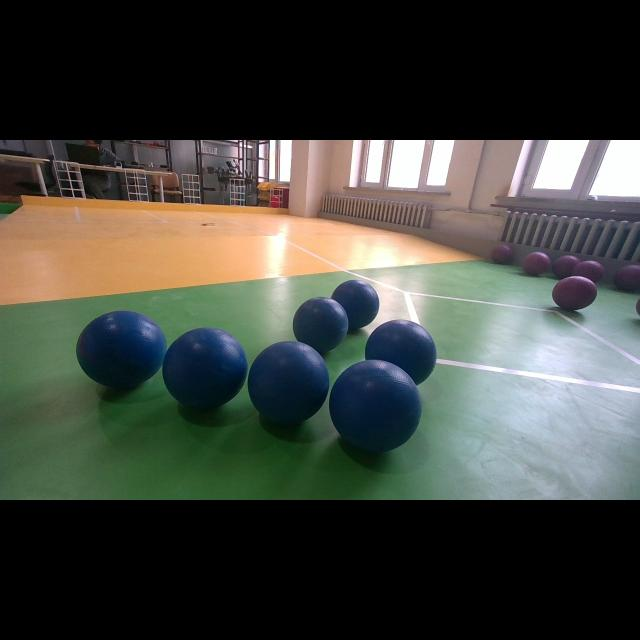B: (330, 360, 422, 454), (76, 310, 166, 390), (162, 328, 248, 410), (247, 341, 329, 425), (372, 314, 448, 378), (324, 272, 386, 338), (293, 296, 349, 354)
P: (552, 276, 598, 310), (576, 260, 602, 288), (551, 252, 577, 278), (523, 252, 551, 276), (491, 244, 513, 264)
